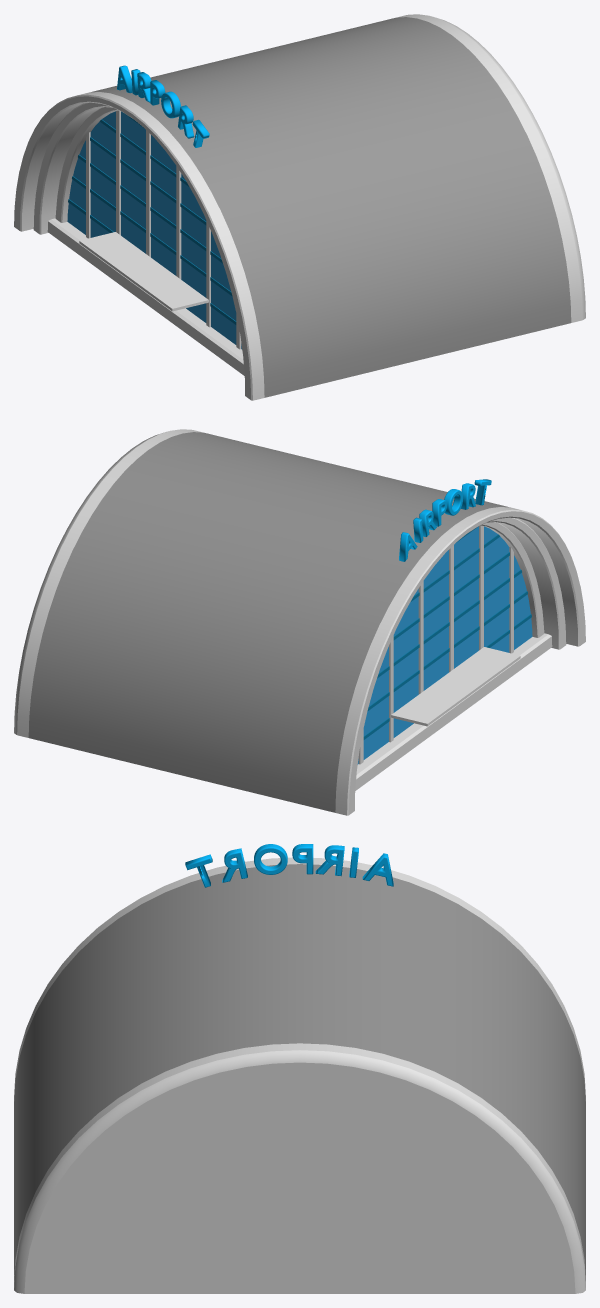
Rendered from airport3.fbx.
The picture shows the model from 3 angles, top to bottom: view 1: azimuth 30°, elevation 25°; view 2: azimuth 150°, elevation 25°; view 3: azimuth 270°, elevation 25°; orthographic projection. The views are drawn at different scales.
Visible parts, largest first — view 1: Cylinder.011, Cylinder.014, Cube.029, Cube.004, Cube.008, Cylinder.012, Cube.005, Text, Cylinder.013; view 2: Cylinder.011, Cylinder.014, Cube.029, Cube.004, Cube.008, Cylinder.012, Cube.005, Text, Cylinder.013; view 3: Cylinder.011, Text.
Part boxes in pixels (left/top/right/bottom): Cylinder.011: left=14, top=14, right=585, bottom=400; Cylinder.014: left=67, top=111, right=242, bottom=349; Cube.029: left=79, top=232, right=208, bottom=311; Cube.004: left=47, top=218, right=244, bottom=375; Cube.008: left=86, top=110, right=241, bottom=349; Cylinder.012: left=33, top=102, right=112, bottom=234; Cube.005: left=68, top=112, right=236, bottom=324; Text: left=117, top=65, right=209, bottom=147; Cylinder.013: left=55, top=107, right=118, bottom=222; Cylinder.011: left=14, top=429, right=585, bottom=815; Cylinder.014: left=357, top=526, right=532, bottom=764; Cube.029: left=391, top=647, right=520, bottom=726; Cube.004: left=355, top=633, right=552, bottom=790; Cube.008: left=358, top=525, right=513, bottom=764; Cylinder.012: left=487, top=517, right=566, bottom=649; Cube.005: left=363, top=527, right=531, bottom=739; Text: left=399, top=479, right=491, bottom=561; Cylinder.013: left=481, top=522, right=544, bottom=637; Cylinder.011: left=14, top=857, right=585, bottom=1293; Text: left=185, top=844, right=393, bottom=887.
Size of the model in its own units: 775 by 479 by 931.
